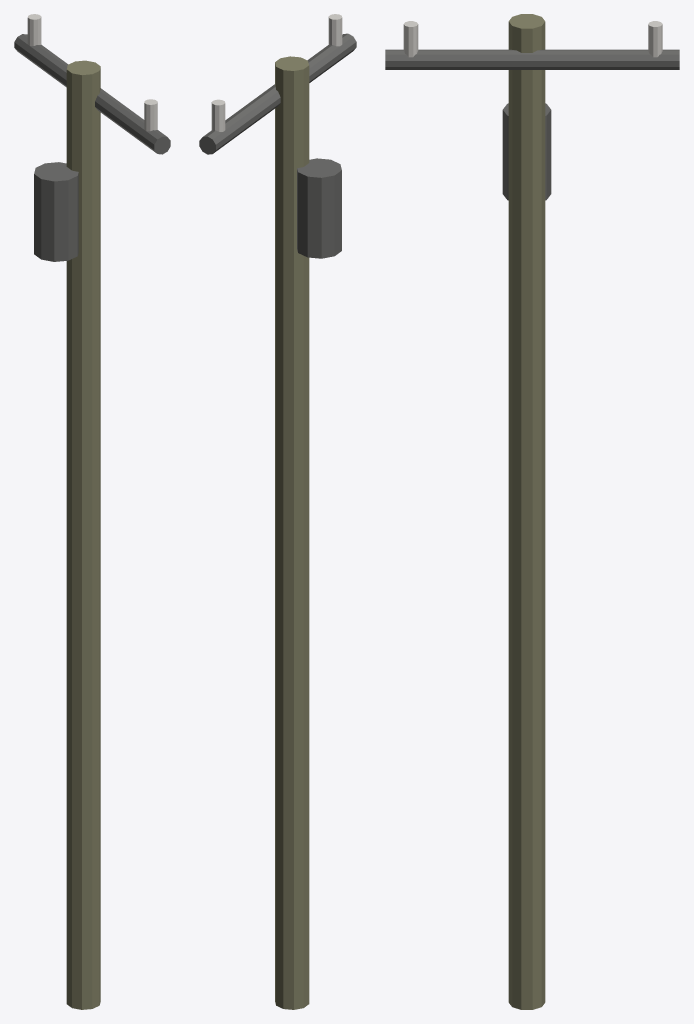
Rendered from lp_powerlineSmall(Colour).fbx.
3 views of the same model, side by side, from view 1: azimuth 30°, elevation 25°; view 2: azimuth 150°, elevation 25°; view 3: azimuth 270°, elevation 25° (orthographic). The views are drawn at different scales.
Visible parts, largest first — view 1: Cylinder, Cylinder.002, Cylinder.001, Cylinder.005, Cylinder.004; view 2: Cylinder, Cylinder.002, Cylinder.001, Cylinder.004, Cylinder.005; view 3: Cylinder, Cylinder.001, Cylinder.002.
Part boxes in pixels (x1,y1,x2,y2): Cylinder: (66,60,100,1009); Cylinder.002: (34,162,78,261); Cylinder.001: (14,34,170,154); Cylinder.005: (27,14,41,45); Cylinder.004: (144,99,157,131); Cylinder: (275,56,309,1009); Cylinder.002: (297,158,341,258); Cylinder.001: (199,33,356,154); Cylinder.004: (328,14,342,46); Cylinder.005: (211,99,225,131); Cylinder: (508,14,545,1009); Cylinder.001: (385,49,679,69); Cylinder.002: (502,103,551,200).
Bounding box in the file's own units: 77.86 × 1063 × 288.
